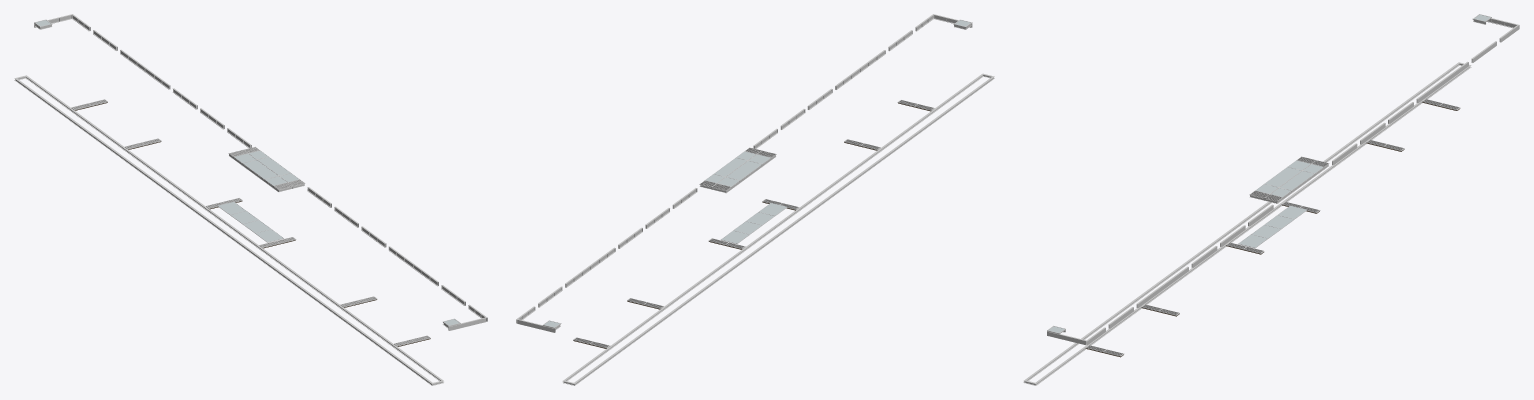
Rendered from SM_H_Building_Tide_DeepJail_04p_ATLAS.fbx.
3 views of the same model, side by side, from view 1: azimuth 30°, elevation 25°; view 2: azimuth 150°, elevation 25°; view 3: azimuth 330°, elevation 25° (orthographic). The views are drawn at different scales.
Visible parts, largest first — view 1: SM_H_Building_Tide_DeepJail_04p_ATLAS; view 2: SM_H_Building_Tide_DeepJail_04p_ATLAS; view 3: SM_H_Building_Tide_DeepJail_04p_ATLAS.
Boxes of the visible parts, box(x1,y1,x2,y2) form: SM_H_Building_Tide_DeepJail_04p_ATLAS: box(14, 14, 487, 385); SM_H_Building_Tide_DeepJail_04p_ATLAS: box(516, 14, 994, 385); SM_H_Building_Tide_DeepJail_04p_ATLAS: box(1023, 14, 1519, 385).
Size of the model in its own units: 793 by 9813 by 687.
